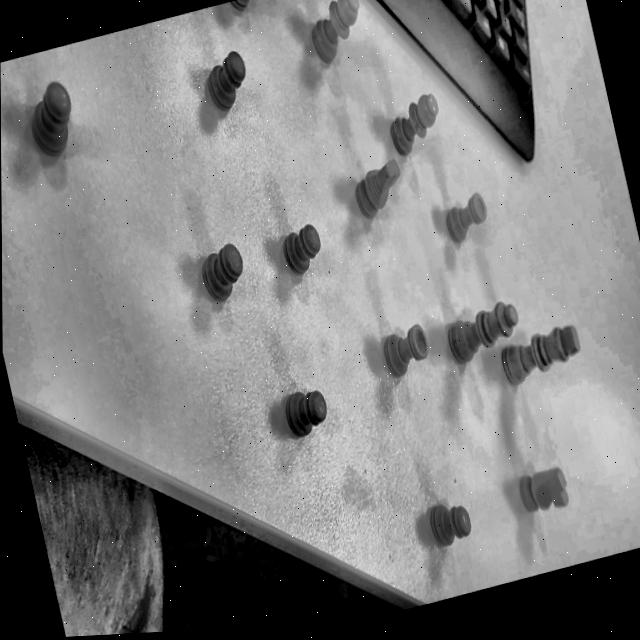white-bishop: (303, 0, 370, 68), (384, 89, 446, 158)
white-king: (498, 320, 585, 385)
white-knight: (350, 155, 408, 221), (516, 463, 573, 517)
white-pawn: (186, 223, 255, 310), (22, 74, 82, 160), (201, 45, 253, 113), (280, 381, 332, 440), (280, 220, 327, 278), (427, 497, 475, 550)
white-queen: (445, 298, 523, 364)
white-rook: (379, 320, 434, 379), (441, 191, 491, 245)
